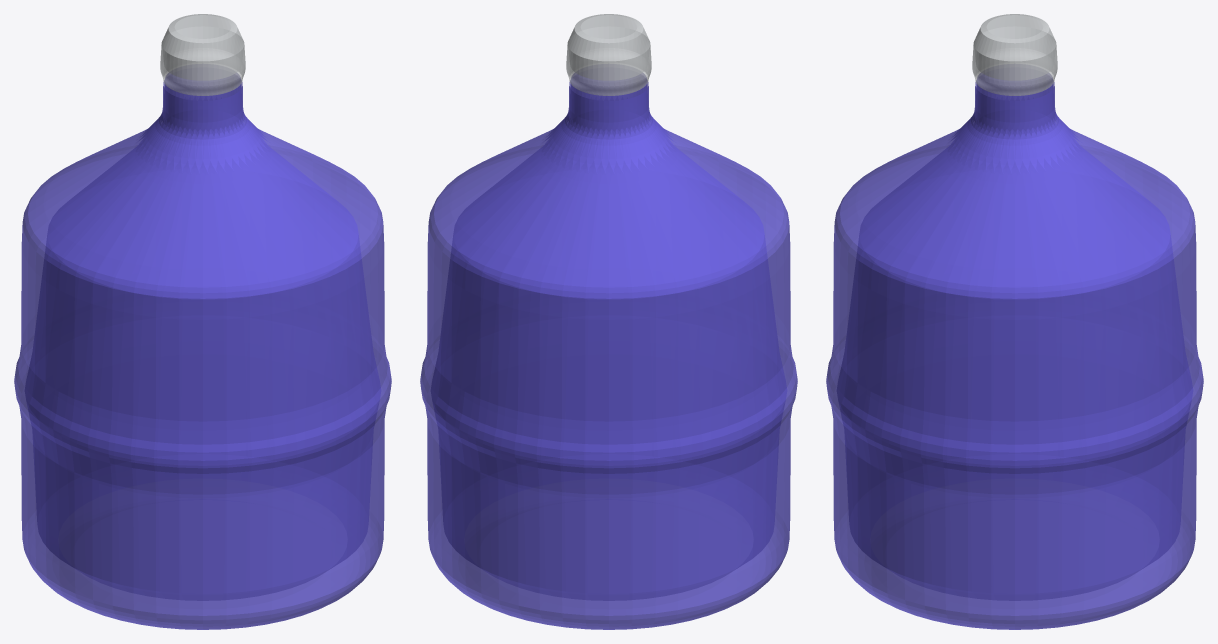
The model's file is jug-20l.glb.
3 renders of one model, left to right at view 1: azimuth 30°, elevation 25°; view 2: azimuth 150°, elevation 25°; view 3: azimuth 270°, elevation 25°, orthographic.
Parts seen in each view (by area): view 1: Cylinder; view 2: Cylinder; view 3: Cylinder.
Boxes of the visible parts, box(x1,y1,x2,y2) form: Cylinder: box(14, 14, 391, 629); Cylinder: box(420, 14, 797, 629); Cylinder: box(826, 14, 1203, 629).
Size of the model in its own units: 2.08 by 3.25 by 2.08.
